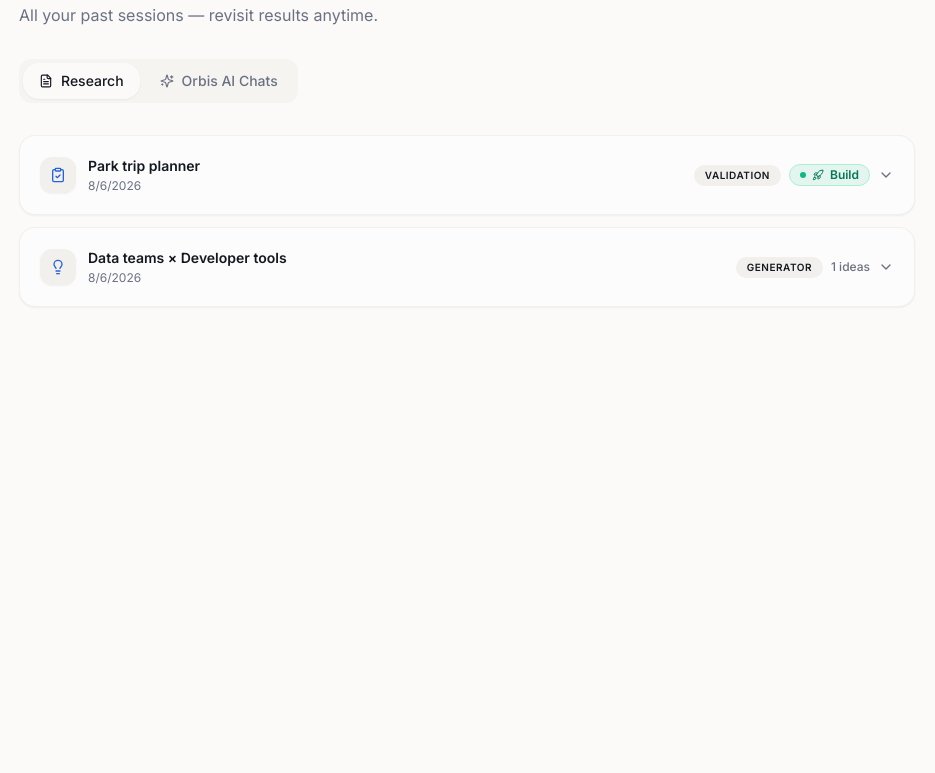
Scenario: History deep linking › keeps multiple artifacts open independently
Click the button with aria-label "generator: data teams × developer tools".
click(58, 267)  # box [20, 228, 914, 306]
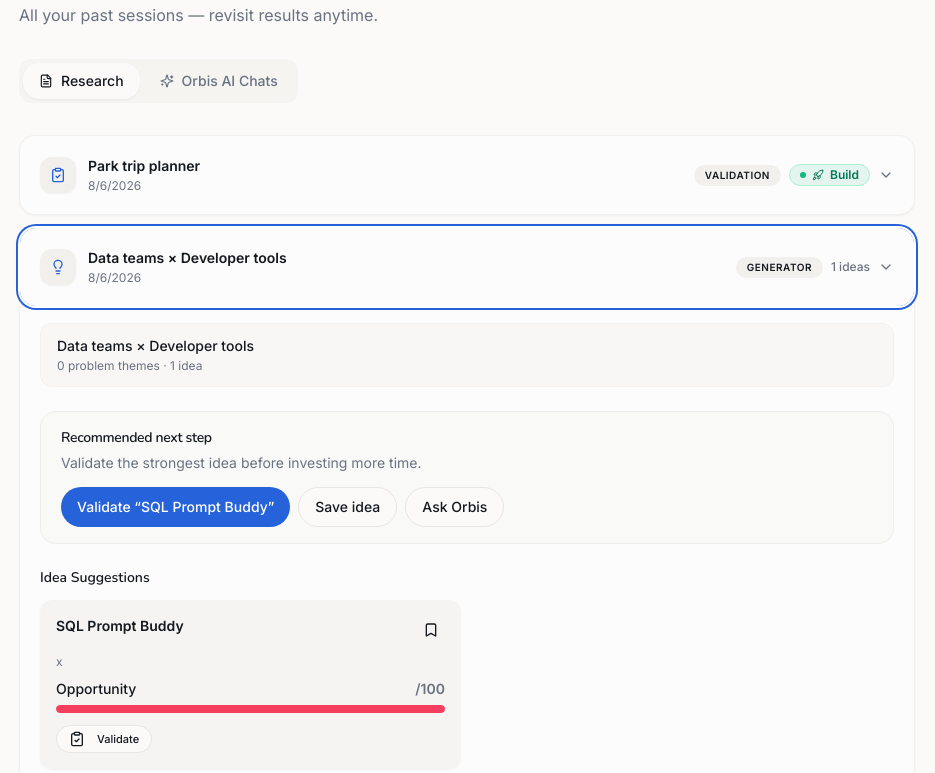
Click the button with aria-label "validation: park trip planner".
click(58, 175)  # box [20, 136, 914, 214]
(page scrolled)
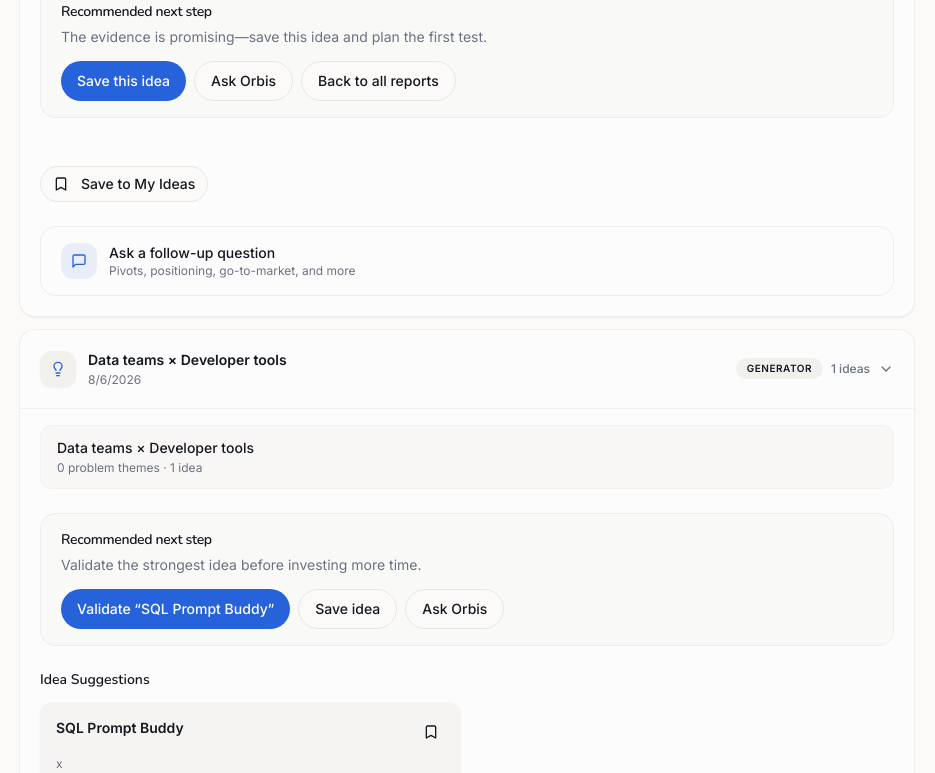
Expected: the button with aria-label "generator: data teams × developer tools" has attribute data-state="open"
Click the button with aria-label "generator: data teams × developer tools".
click(58, 369)  # box [20, 330, 914, 408]
(page scrolled)
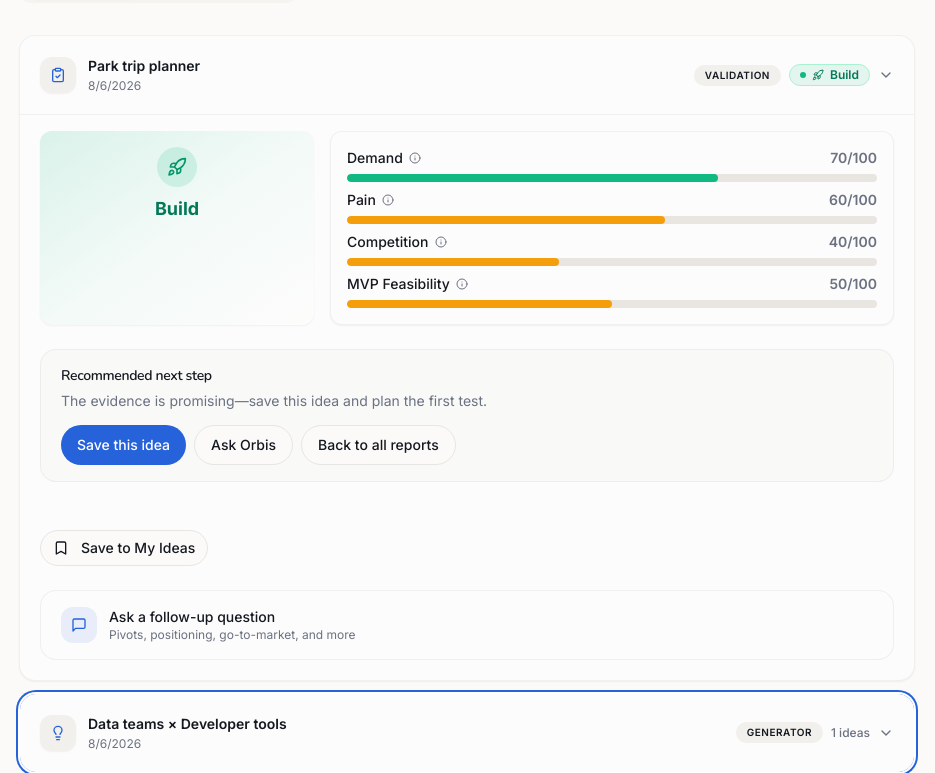
Expected: the button with aria-label "generator: data teams × developer tools" has attribute data-state="closed", [20, 694, 914, 772]
Expected: the button with aria-label "validation: park trip planner" has attribute data-state="open", [20, 36, 914, 114]
